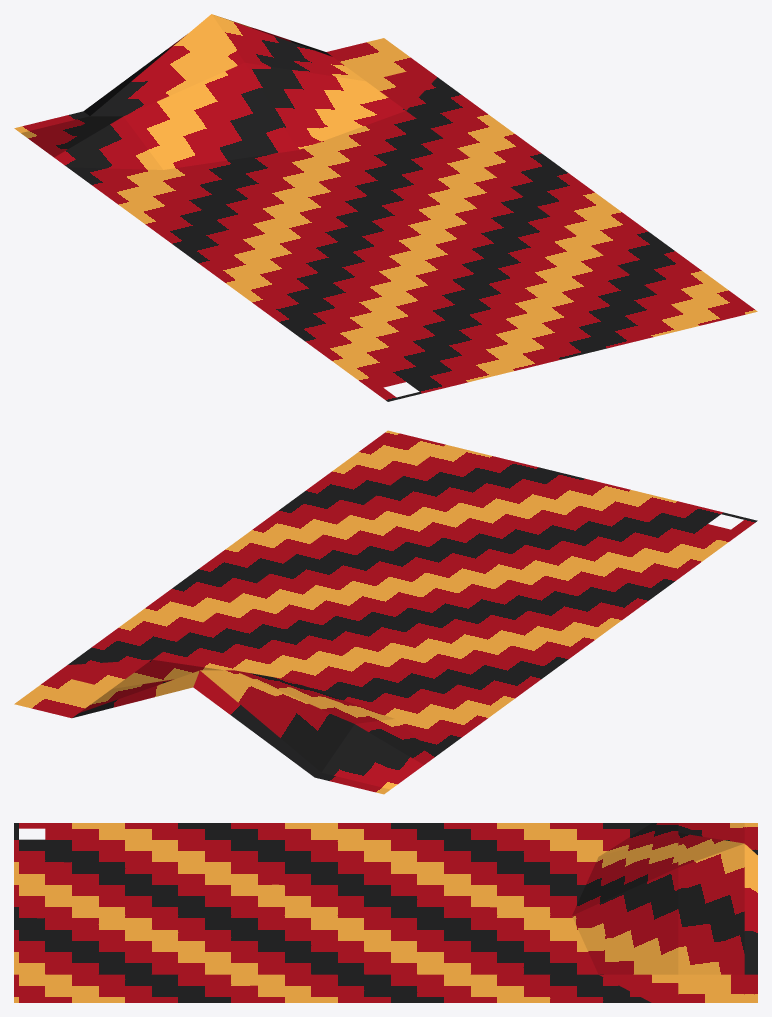
The model's file is rug.gltf.
3 views of the same model, one above another, from view 1: azimuth 30°, elevation 25°; view 2: azimuth 150°, elevation 25°; view 3: azimuth 270°, elevation 25° (orthographic).
Parts seen in each view (by area): view 1: plane; view 2: plane; view 3: plane.
Part boxes in pixels (<box>): plane: <box>14,14,757,401</box>; plane: <box>14,430,757,794</box>; plane: <box>14,823,757,1002</box>.
Bounding box in the file's own units: 1 × 0.1875 × 1.75.
1 material, 1 textured.
